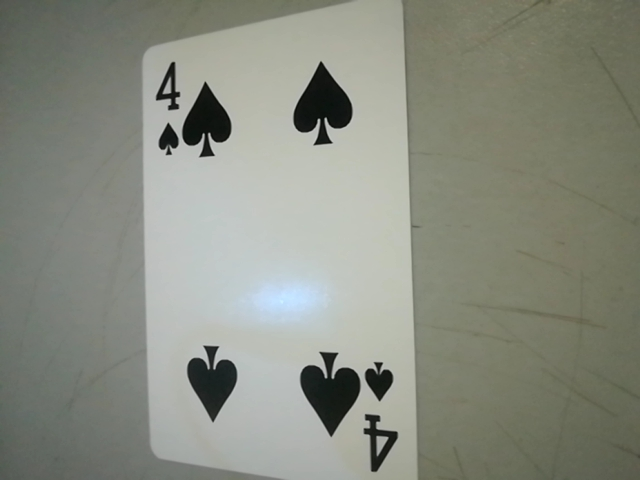ht 4: (351, 346, 414, 480)
